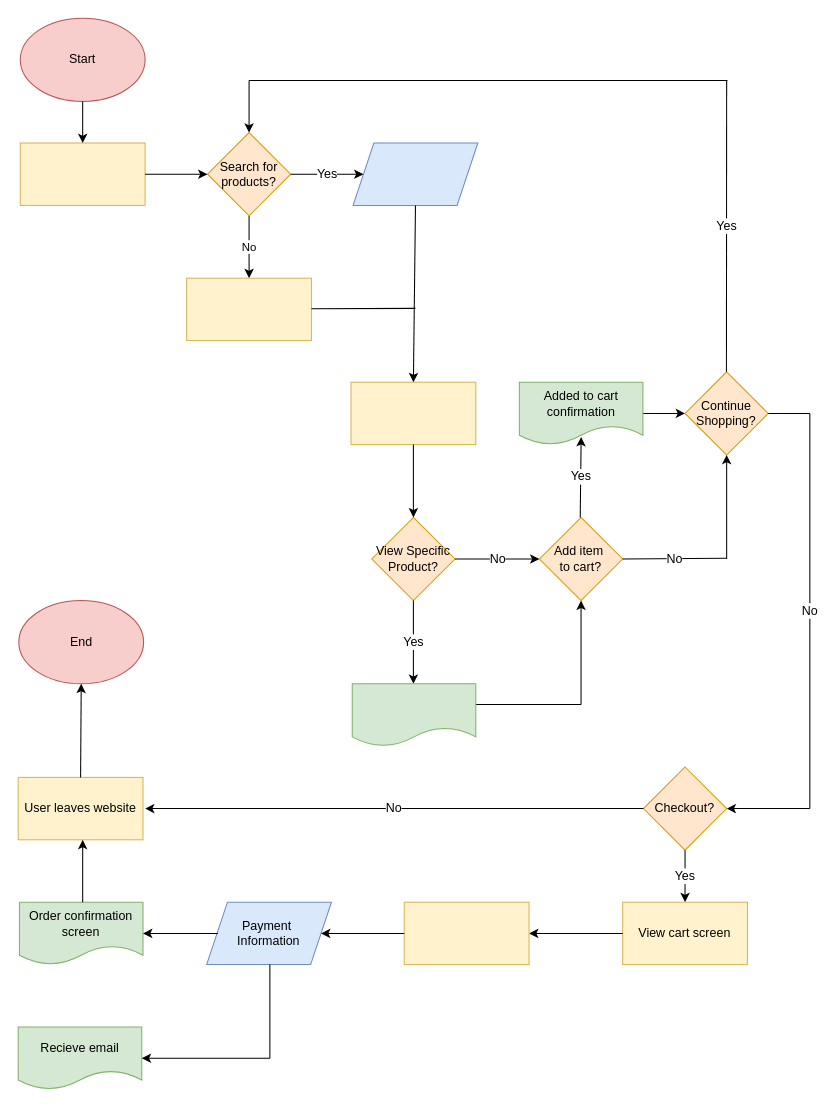
This 837x1108 diagram has some shape labels left out. Here are the shapes that lost their labels. From the top down, the centre of each, then its label:
pixel 82 173: User enters website
pixel 415 173: Provide search input
pixel 248 309: Explore products on home page
pixel 413 413: User looks over the products
pixel 413 714: Specific product webpage opens
pixel 466 933: View payment screen
